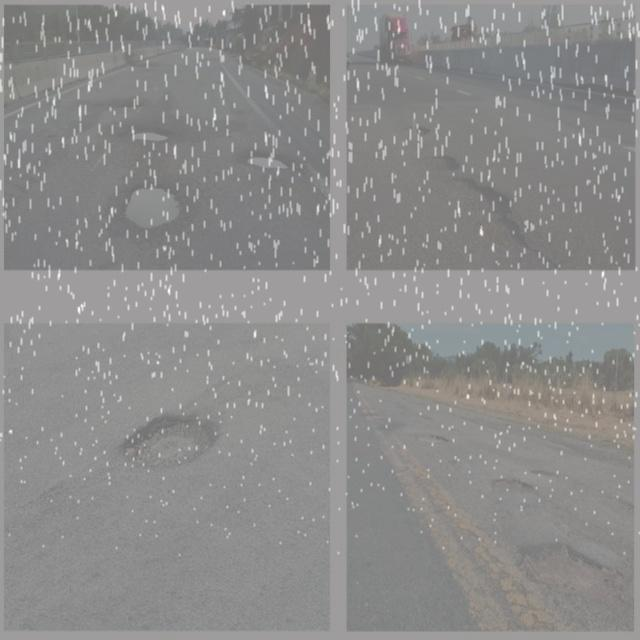Pothole: (454, 176, 555, 270), (112, 403, 226, 481), (513, 540, 613, 602), (122, 186, 183, 232), (358, 409, 412, 444), (243, 153, 289, 173), (490, 478, 540, 494), (129, 128, 172, 144), (429, 155, 465, 174), (414, 430, 454, 447), (105, 94, 146, 110), (404, 124, 436, 140), (532, 469, 556, 479)
